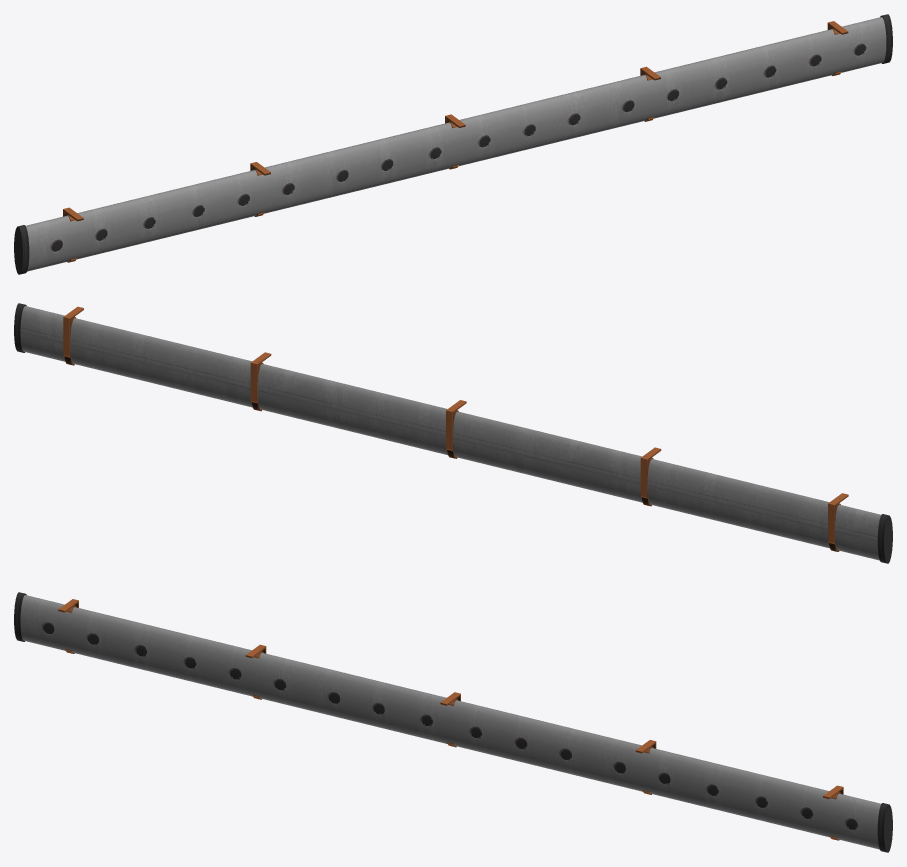
Rendered from nt_hydro_wall_holders_LOD0.obj.
3 renders of one model, top to bottom at view 1: azimuth 30°, elevation 25°; view 2: azimuth 150°, elevation 25°; view 3: azimuth 330°, elevation 25°, orthographic.
Visible parts, largest first — view 1: nt_2020_pipes_ceramic_holes; view 2: nt_2020_pipes_ceramic_holes; view 3: nt_2020_pipes_ceramic_holes.
Boxes of the visible parts, x1,y1,x2,y2 form: nt_2020_pipes_ceramic_holes: [14, 14, 892, 274]; nt_2020_pipes_ceramic_holes: [14, 303, 892, 563]; nt_2020_pipes_ceramic_holes: [14, 592, 892, 852].
Bounding box in the file's own units: 420 × 23.2 × 11.96.
